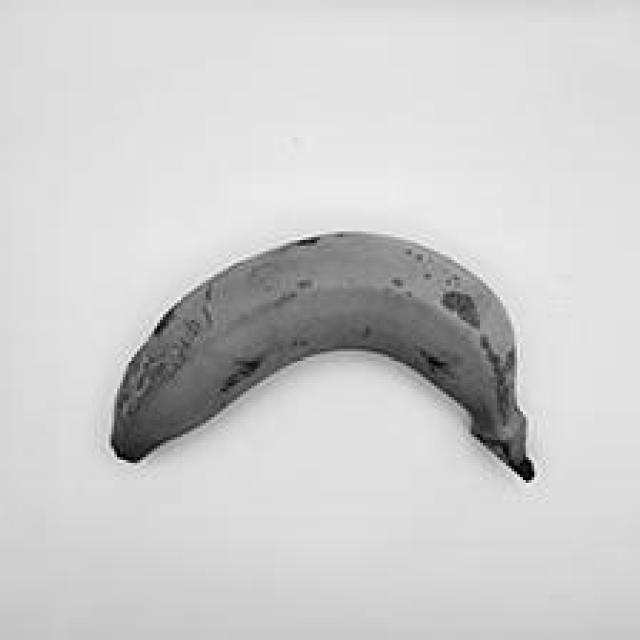Raw: (92, 218, 550, 511)
